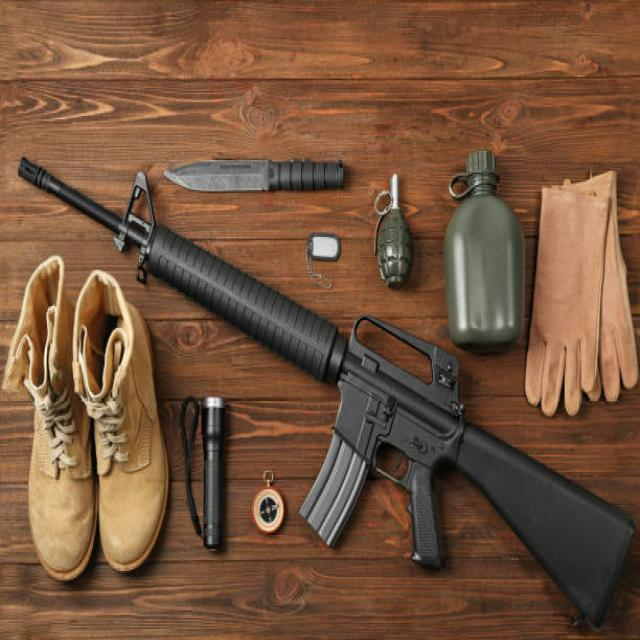grenade: (373, 173, 416, 295)
